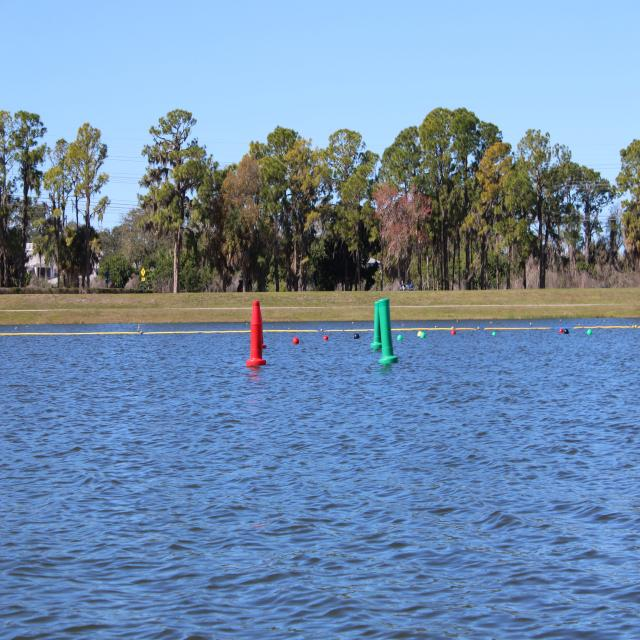green-column-buoy: (373, 298, 398, 362)
red-column-buoy: (247, 298, 266, 367)
